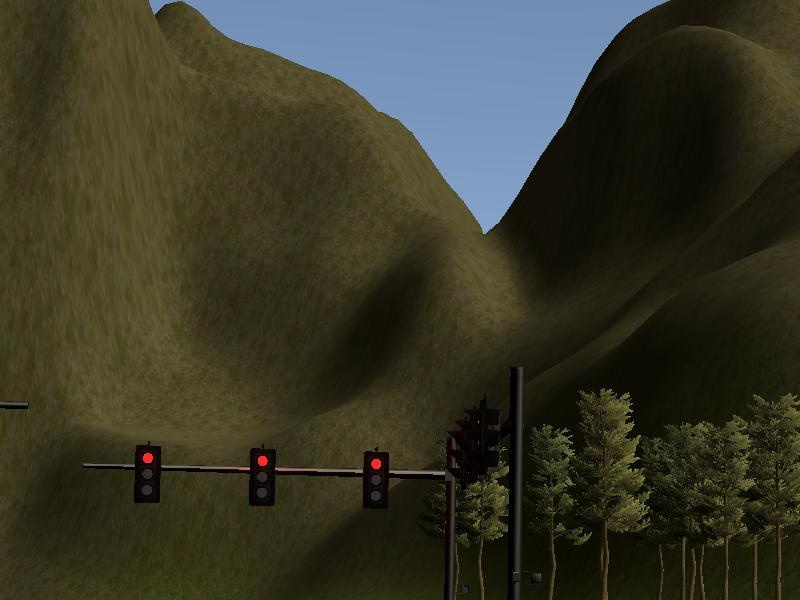Red: (247, 448, 276, 507), (133, 445, 161, 504), (361, 451, 389, 510)
